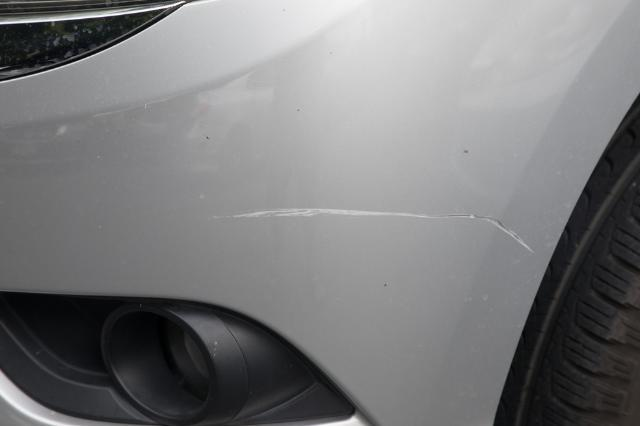Bumper: (184, 158, 552, 301)
